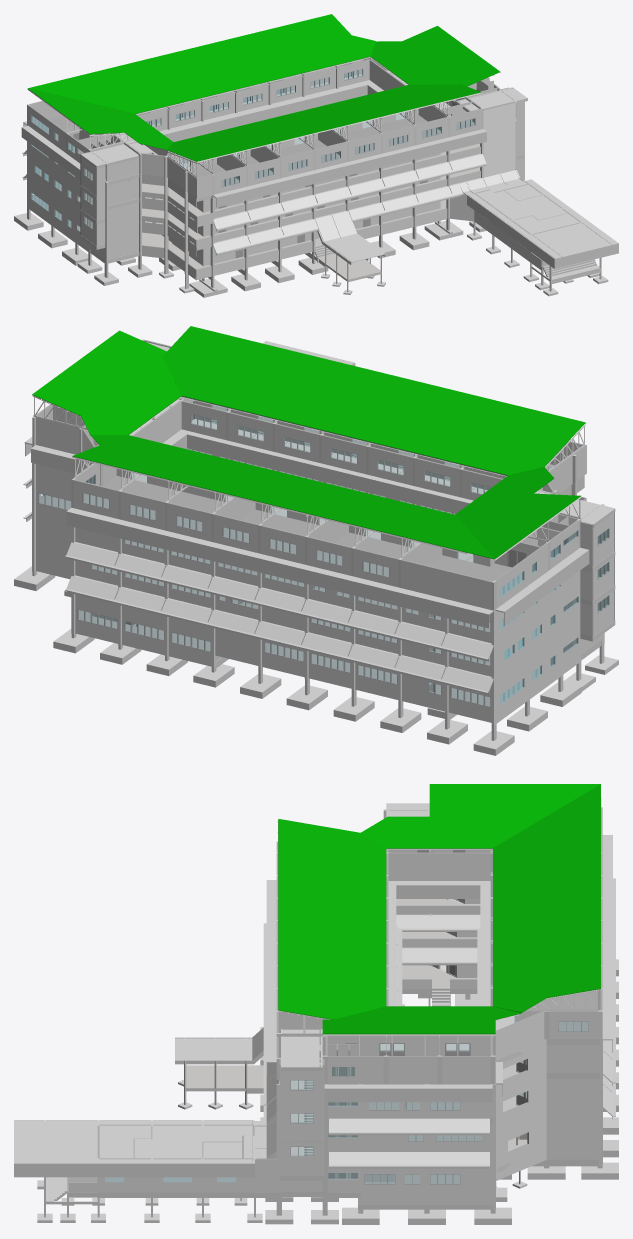
3 renders of one model, top to bottom at view 1: azimuth 30°, elevation 25°; view 2: azimuth 150°, elevation 25°; view 3: azimuth 270°, elevation 25°, orthographic. The views are drawn at different scales.
Visible parts, largest first — view 1: EN113RF, EN11304, EN11301, EN11302, EN11303; view 2: EN113RF, EN11304, EN11301, EN11302, EN11303; view 3: EN113RF, EN11301, EN11304, EN11302, EN11303.
Boxes of the visible parts, x1,y1,x2,y2 form: EN113RF: (21, 14, 618, 268); EN11304: (23, 58, 527, 201); EN11301: (14, 166, 608, 297); EN11302: (27, 142, 524, 250); EN11303: (27, 74, 524, 233); EN113RF: (23, 326, 614, 694); EN11304: (24, 339, 615, 615); EN11301: (14, 512, 618, 755); EN11302: (32, 478, 615, 678); EN11303: (32, 405, 615, 645); EN113RF: (14, 784, 615, 1177); EN11301: (37, 932, 618, 1224); EN11304: (276, 803, 602, 1090); EN11302: (276, 899, 602, 1164); EN11303: (276, 835, 602, 1124).
Size of the model in its own units: 60.35 by 19.88 by 58.47.
